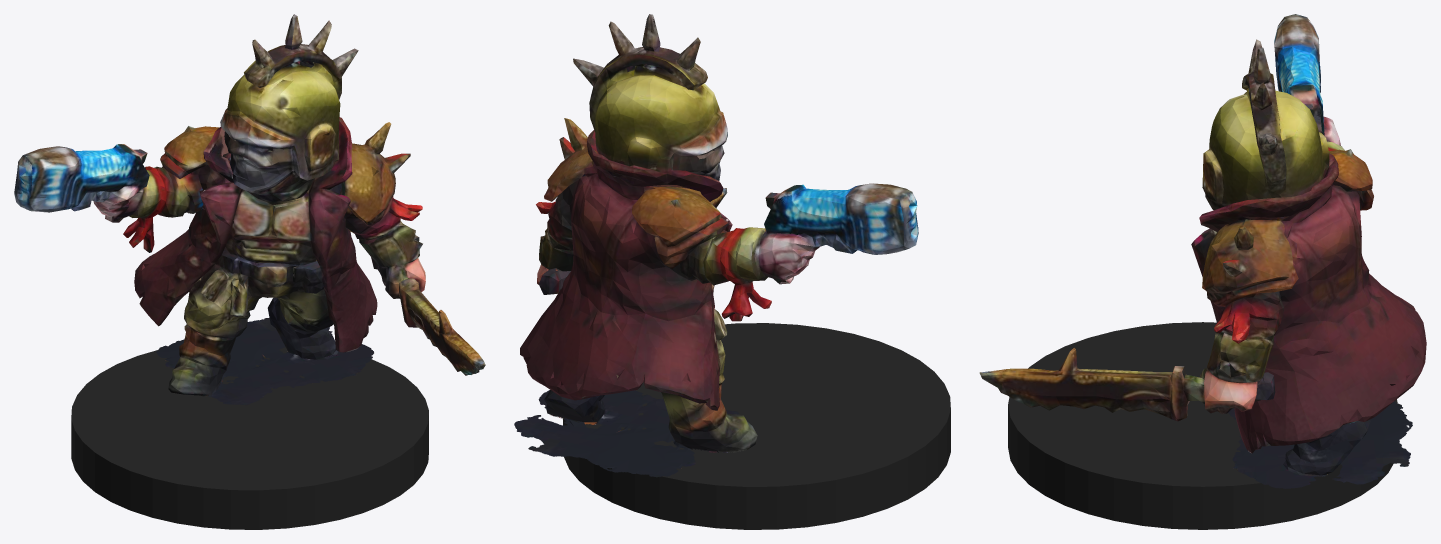
The model's file is bl-chieftain-plasma-pistol.glb.
The picture shows the model from 3 angles, left to right: view 1: azimuth 30°, elevation 25°; view 2: azimuth 150°, elevation 25°; view 3: azimuth 270°, elevation 25°; orthographic projection. The views are drawn at different scales.
Parts seen in each view (by area): view 1: figure, base; view 2: figure, base; view 3: figure, base.
Part boxes in pixels (<box>): figure: <box>14,14,485,405</box>; base: <box>71,347,428,529</box>; figure: <box>514,14,918,477</box>; base: <box>563,323,950,529</box>; figure: <box>979,14,1426,488</box>; base: <box>1008,322,1397,529</box>.
Size of the model in its own units: 1.19 by 1.22 by 1.13.
2 materials, 1 textured.
